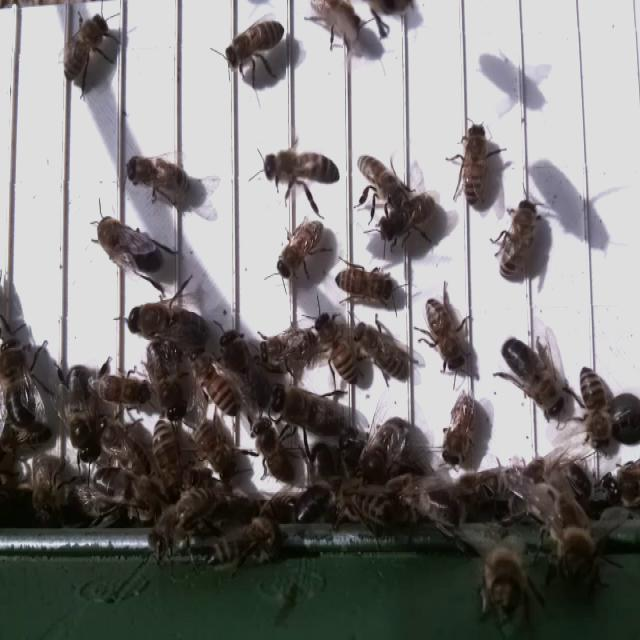Drone: (500, 332, 566, 422), (270, 378, 350, 443), (60, 360, 106, 468), (122, 298, 213, 352), (93, 212, 166, 278), (0, 332, 42, 431)
Worker: (350, 319, 411, 382), (220, 16, 286, 74), (124, 151, 194, 205), (272, 216, 328, 282), (262, 146, 342, 192), (314, 307, 359, 387), (424, 294, 468, 374), (497, 198, 537, 284), (190, 354, 242, 420), (62, 13, 110, 84), (576, 362, 610, 458), (374, 198, 439, 248), (258, 322, 320, 372), (334, 260, 397, 306), (440, 395, 478, 471), (354, 151, 408, 204), (461, 120, 490, 210)
